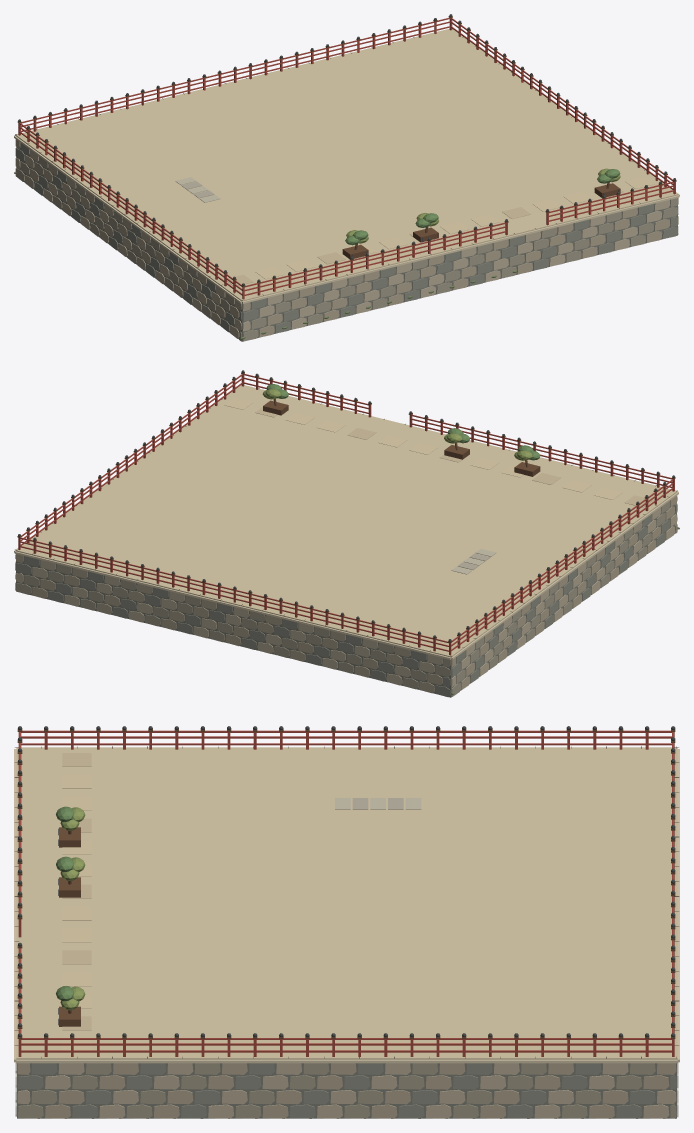
The model's file is feihua_terrace-refined-v1.glb.
3 renders of one model, top to bottom at view 1: azimuth 30°, elevation 25°; view 2: azimuth 150°, elevation 25°; view 3: azimuth 270°, elevation 25°, orthographic. The views are drawn at different scales.
Visible parts, largest first — view 1: feihua_terrace_FH_d6c7a7_surface, feihua_terrace_FH_aa5145_surface, feihua_terrace_FH_aaa591_surface, feihua_terrace_FH_93968a_surface, feihua_terrace_FH_c2b79f_surface, feihua_terrace_FH_b9ae97_surface, feihua_terrace_FH_85867c_surface, feihua_terrace_FH_ddd0b2_surface, feihua_terrace_FH_70513b_surface, feihua_terrace_FH_d9c9a6_surface, feihua_terrace_FH_474a49_surface, feihua_terrace_FH_6c895a_surface (+1 smaller); view 2: feihua_terrace_FH_d6c7a7_surface, feihua_terrace_FH_aa5145_surface, feihua_terrace_FH_aaa591_surface, feihua_terrace_FH_93968a_surface, feihua_terrace_FH_c2b79f_surface, feihua_terrace_FH_b9ae97_surface, feihua_terrace_FH_85867c_surface, feihua_terrace_FH_ddd0b2_surface, feihua_terrace_FH_d9c9a6_surface, feihua_terrace_FH_70513b_surface, feihua_terrace_FH_474a49_surface, feihua_terrace_FH_ccbc9b_surface; view 3: feihua_terrace_FH_d6c7a7_surface, feihua_terrace_FH_aa5145_surface, feihua_terrace_FH_93968a_surface, feihua_terrace_FH_aaa591_surface, feihua_terrace_FH_c2b79f_surface, feihua_terrace_FH_b9ae97_surface, feihua_terrace_FH_85867c_surface, feihua_terrace_FH_ddd0b2_surface, feihua_terrace_FH_d9c9a6_surface, feihua_terrace_FH_70513b_surface, feihua_terrace_FH_474a49_surface, feihua_terrace_FH_ccbc9b_surface (+3 smaller).
Part boxes in pixels (x1,y1,x2,y2): feihua_terrace_FH_d6c7a7_surface: (15, 28, 678, 301); feihua_terrace_FH_aa5145_surface: (18, 17, 675, 299); feihua_terrace_FH_aaa591_surface: (15, 156, 678, 341); feihua_terrace_FH_93968a_surface: (15, 143, 678, 333); feihua_terrace_FH_c2b79f_surface: (15, 149, 678, 338); feihua_terrace_FH_b9ae97_surface: (15, 139, 678, 337); feihua_terrace_FH_85867c_surface: (16, 147, 677, 341); feihua_terrace_FH_ddd0b2_surface: (14, 135, 679, 303); feihua_terrace_FH_70513b_surface: (17, 16, 676, 287); feihua_terrace_FH_d9c9a6_surface: (255, 177, 654, 279); feihua_terrace_FH_474a49_surface: (18, 14, 675, 285); feihua_terrace_FH_6c895a_surface: (345, 169, 620, 245); feihua_terrace_FH_d6c7a7_surface: (15, 385, 677, 657); feihua_terrace_FH_aa5145_surface: (18, 374, 674, 655); feihua_terrace_FH_aaa591_surface: (15, 501, 677, 696); feihua_terrace_FH_93968a_surface: (15, 503, 677, 696); feihua_terrace_FH_c2b79f_surface: (15, 507, 677, 686); feihua_terrace_FH_b9ae97_surface: (15, 495, 677, 693); feihua_terrace_FH_85867c_surface: (16, 504, 676, 697); feihua_terrace_FH_ddd0b2_surface: (14, 491, 678, 659); feihua_terrace_FH_d9c9a6_surface: (224, 397, 622, 499); feihua_terrace_FH_70513b_surface: (17, 372, 675, 642); feihua_terrace_FH_474a49_surface: (18, 370, 674, 641); feihua_terrace_FH_ccbc9b_surface: (255, 407, 653, 507); feihua_terrace_FH_d6c7a7_surface: (16, 747, 677, 1059); feihua_terrace_FH_aa5145_surface: (18, 730, 674, 1056); feihua_terrace_FH_93968a_surface: (15, 1063, 678, 1118); feihua_terrace_FH_aaa591_surface: (15, 1062, 678, 1118); feihua_terrace_FH_c2b79f_surface: (17, 1063, 678, 1118); feihua_terrace_FH_b9ae97_surface: (17, 1062, 678, 1118); feihua_terrace_FH_85867c_surface: (17, 1063, 676, 1118); feihua_terrace_FH_ddd0b2_surface: (14, 749, 679, 1063); feihua_terrace_FH_d9c9a6_surface: (62, 774, 91, 1050); feihua_terrace_FH_70513b_surface: (17, 728, 675, 1038); feihua_terrace_FH_474a49_surface: (18, 726, 675, 1036); feihua_terrace_FH_ccbc9b_surface: (62, 753, 91, 1030).
Bounding box in the file's own units: 50.43 × 7.19 × 45.3.
